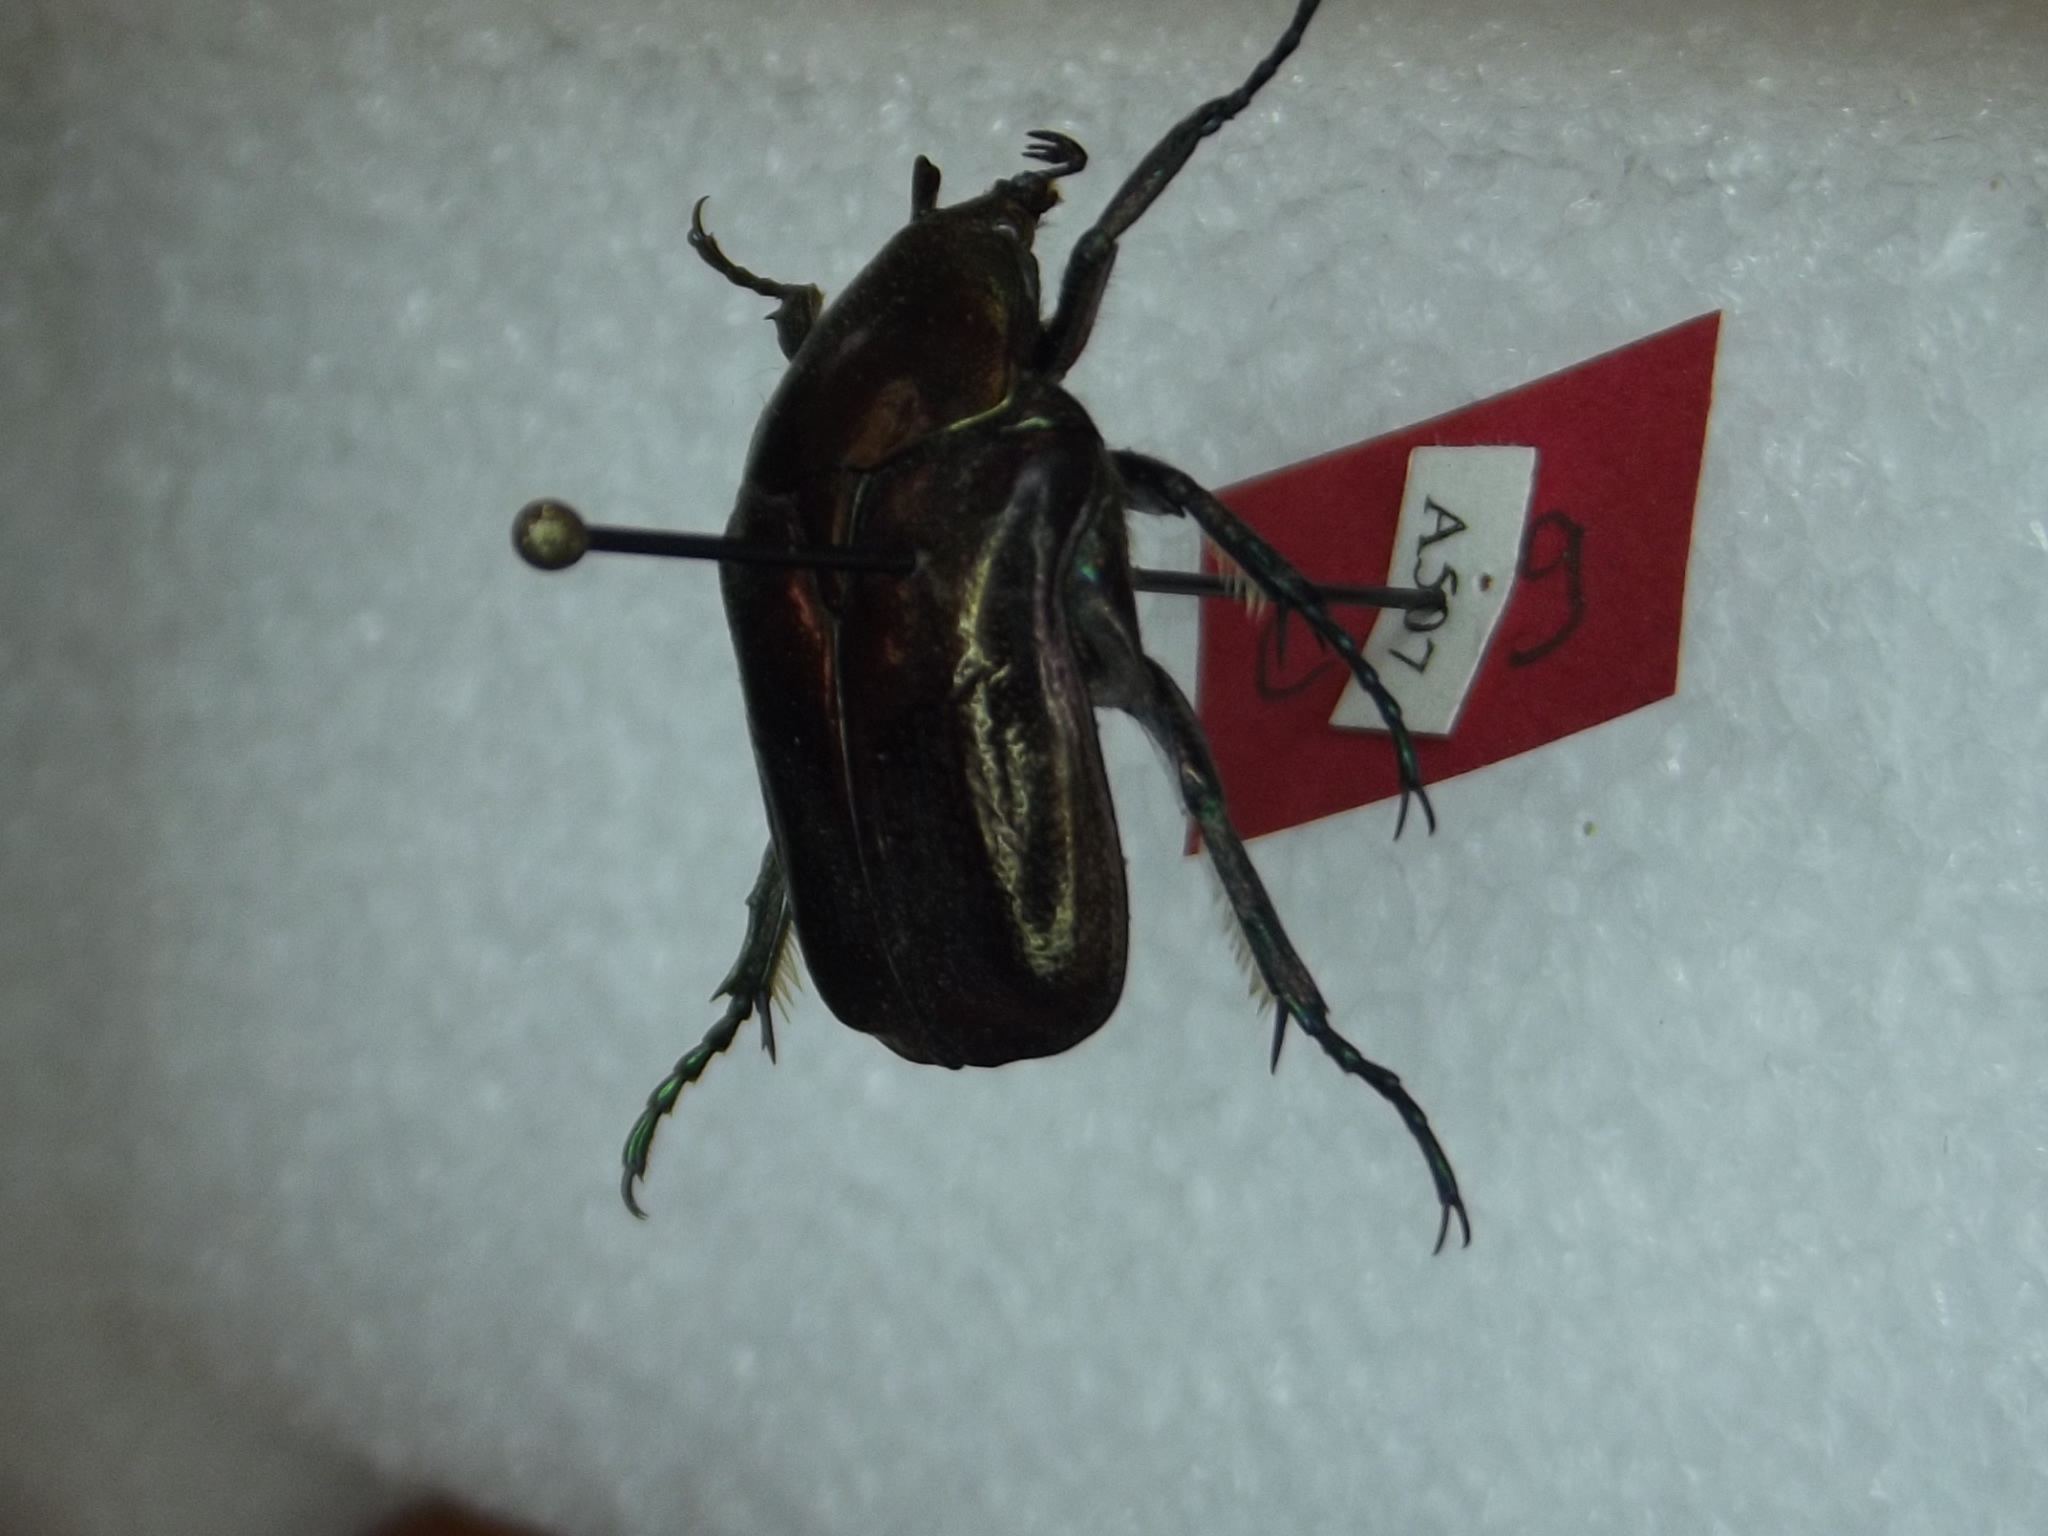Protaetia_besucheti: (600, 15, 1496, 1275)
